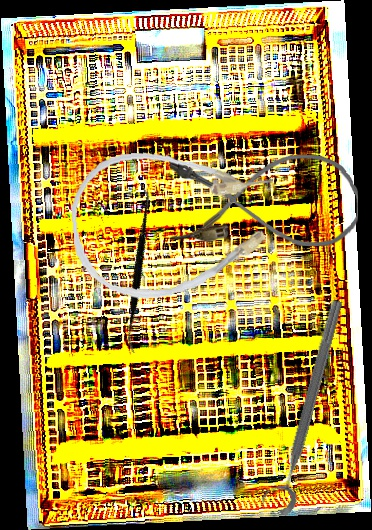Cannula: (67, 141, 282, 305), (168, 152, 359, 247)
Fixation Ring: (257, 294, 350, 518)
Spatula Surgical: (65, 181, 209, 355)
